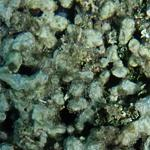dead: (7, 6, 145, 148)
